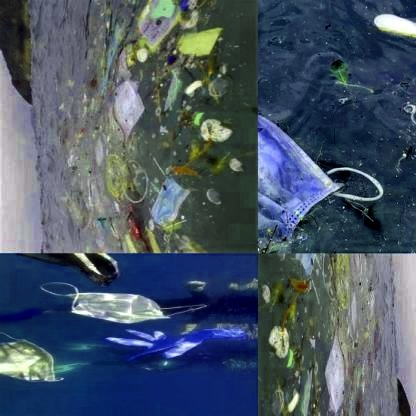Mask: (258, 76, 390, 252), (40, 282, 210, 325), (1, 333, 62, 383), (146, 178, 191, 230), (292, 253, 325, 281)
glove: (104, 328, 244, 364)
